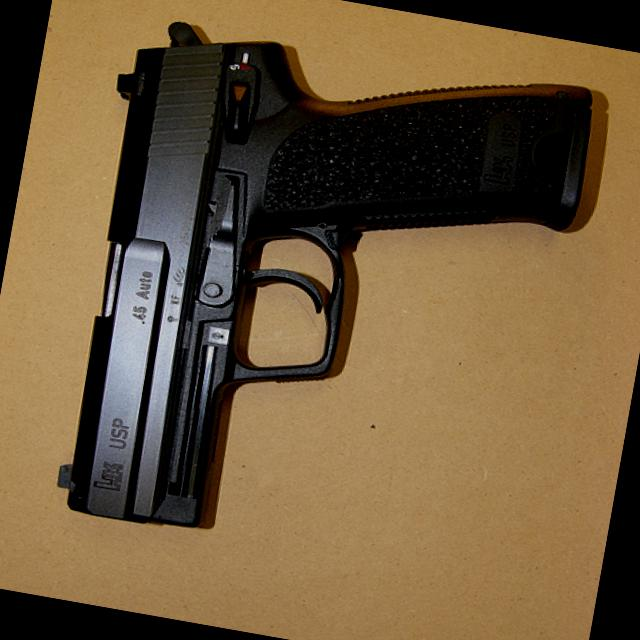handgun: (38, 4, 596, 589)
